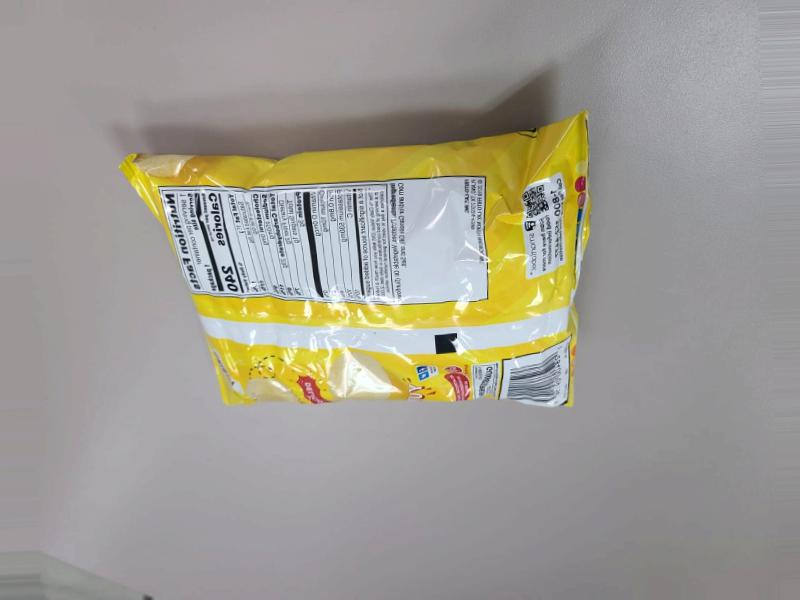lays: (127, 125, 610, 432)
